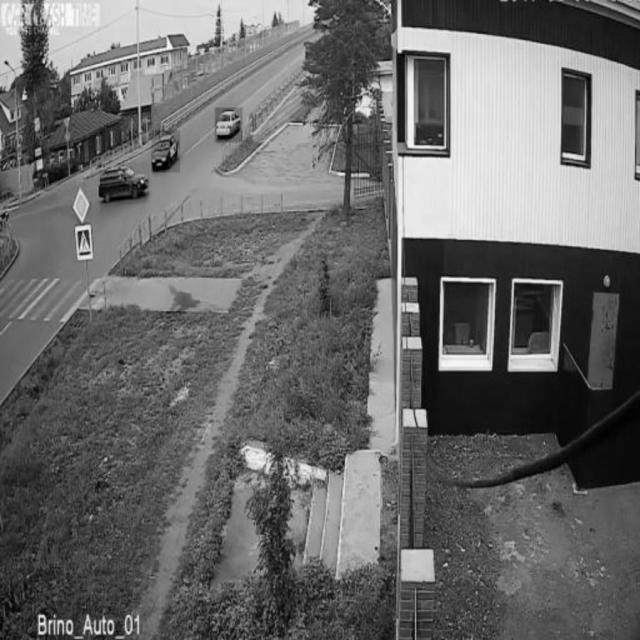vehicle: (99, 163, 150, 204), (151, 131, 179, 173), (215, 108, 243, 143)
